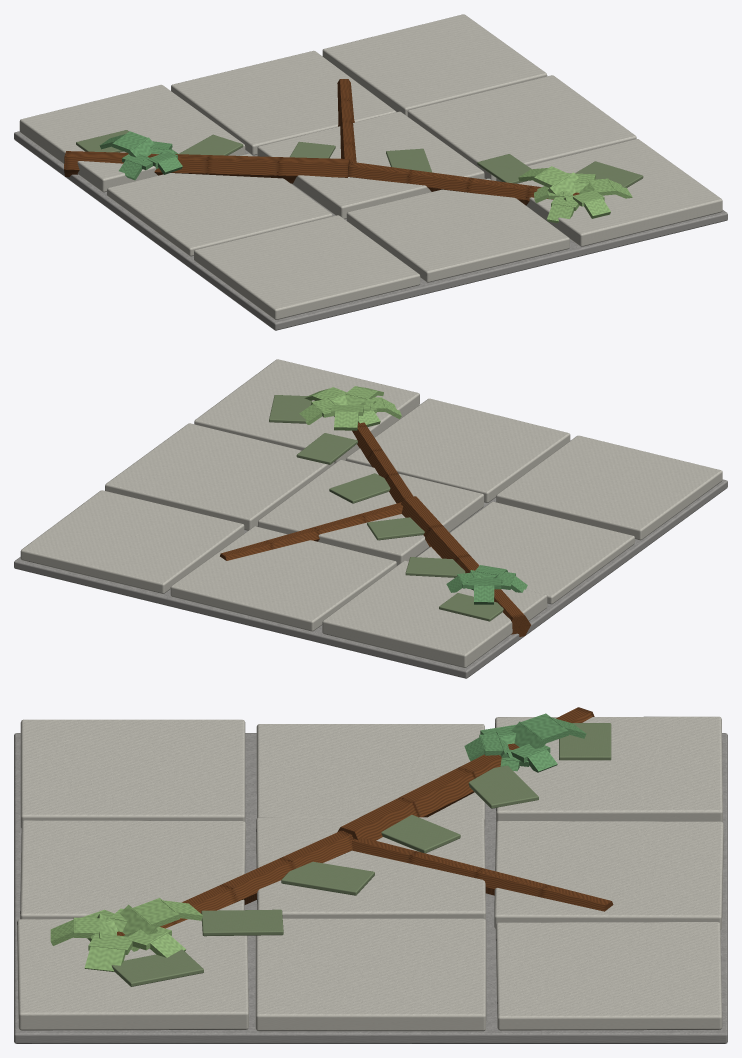
The model's file is jungle-temple-and-stone-city-plaza-paving-slab-cracked-1ba8e245__36113.glb.
3 renders of one model, top to bottom at view 1: azimuth 30°, elevation 25°; view 2: azimuth 150°, elevation 25°; view 3: azimuth 270°, elevation 25°, orthographic. The views are drawn at different scales.
Visible parts, largest first — view 1: plaza-paving-slab-cracked; view 2: plaza-paving-slab-cracked; view 3: plaza-paving-slab-cracked.
Part boxes in pixels (box(x1,y1,x2,y2)): plaza-paving-slab-cracked: box(14, 14, 727, 330); plaza-paving-slab-cracked: box(14, 359, 727, 678); plaza-paving-slab-cracked: box(14, 707, 727, 1043).
Bounding box in the file's own units: 3.05 × 0.2465 × 3.
6 materials, 6 textured.
